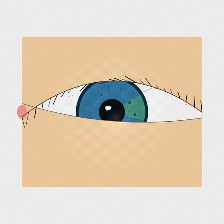pinguecula_lesion: (42, 109, 72, 132)
